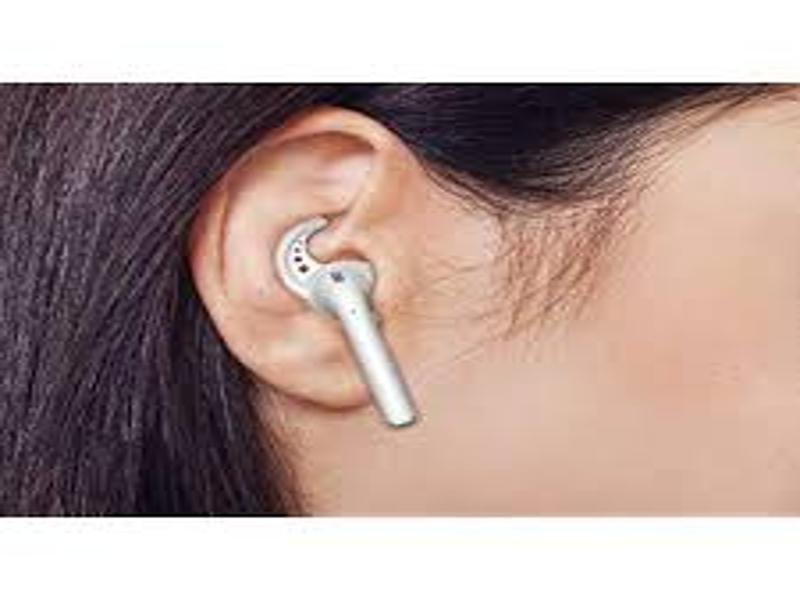headphone: (276, 215, 421, 426)
